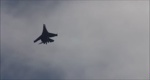maybay_muctieu: (35, 23, 58, 48)
